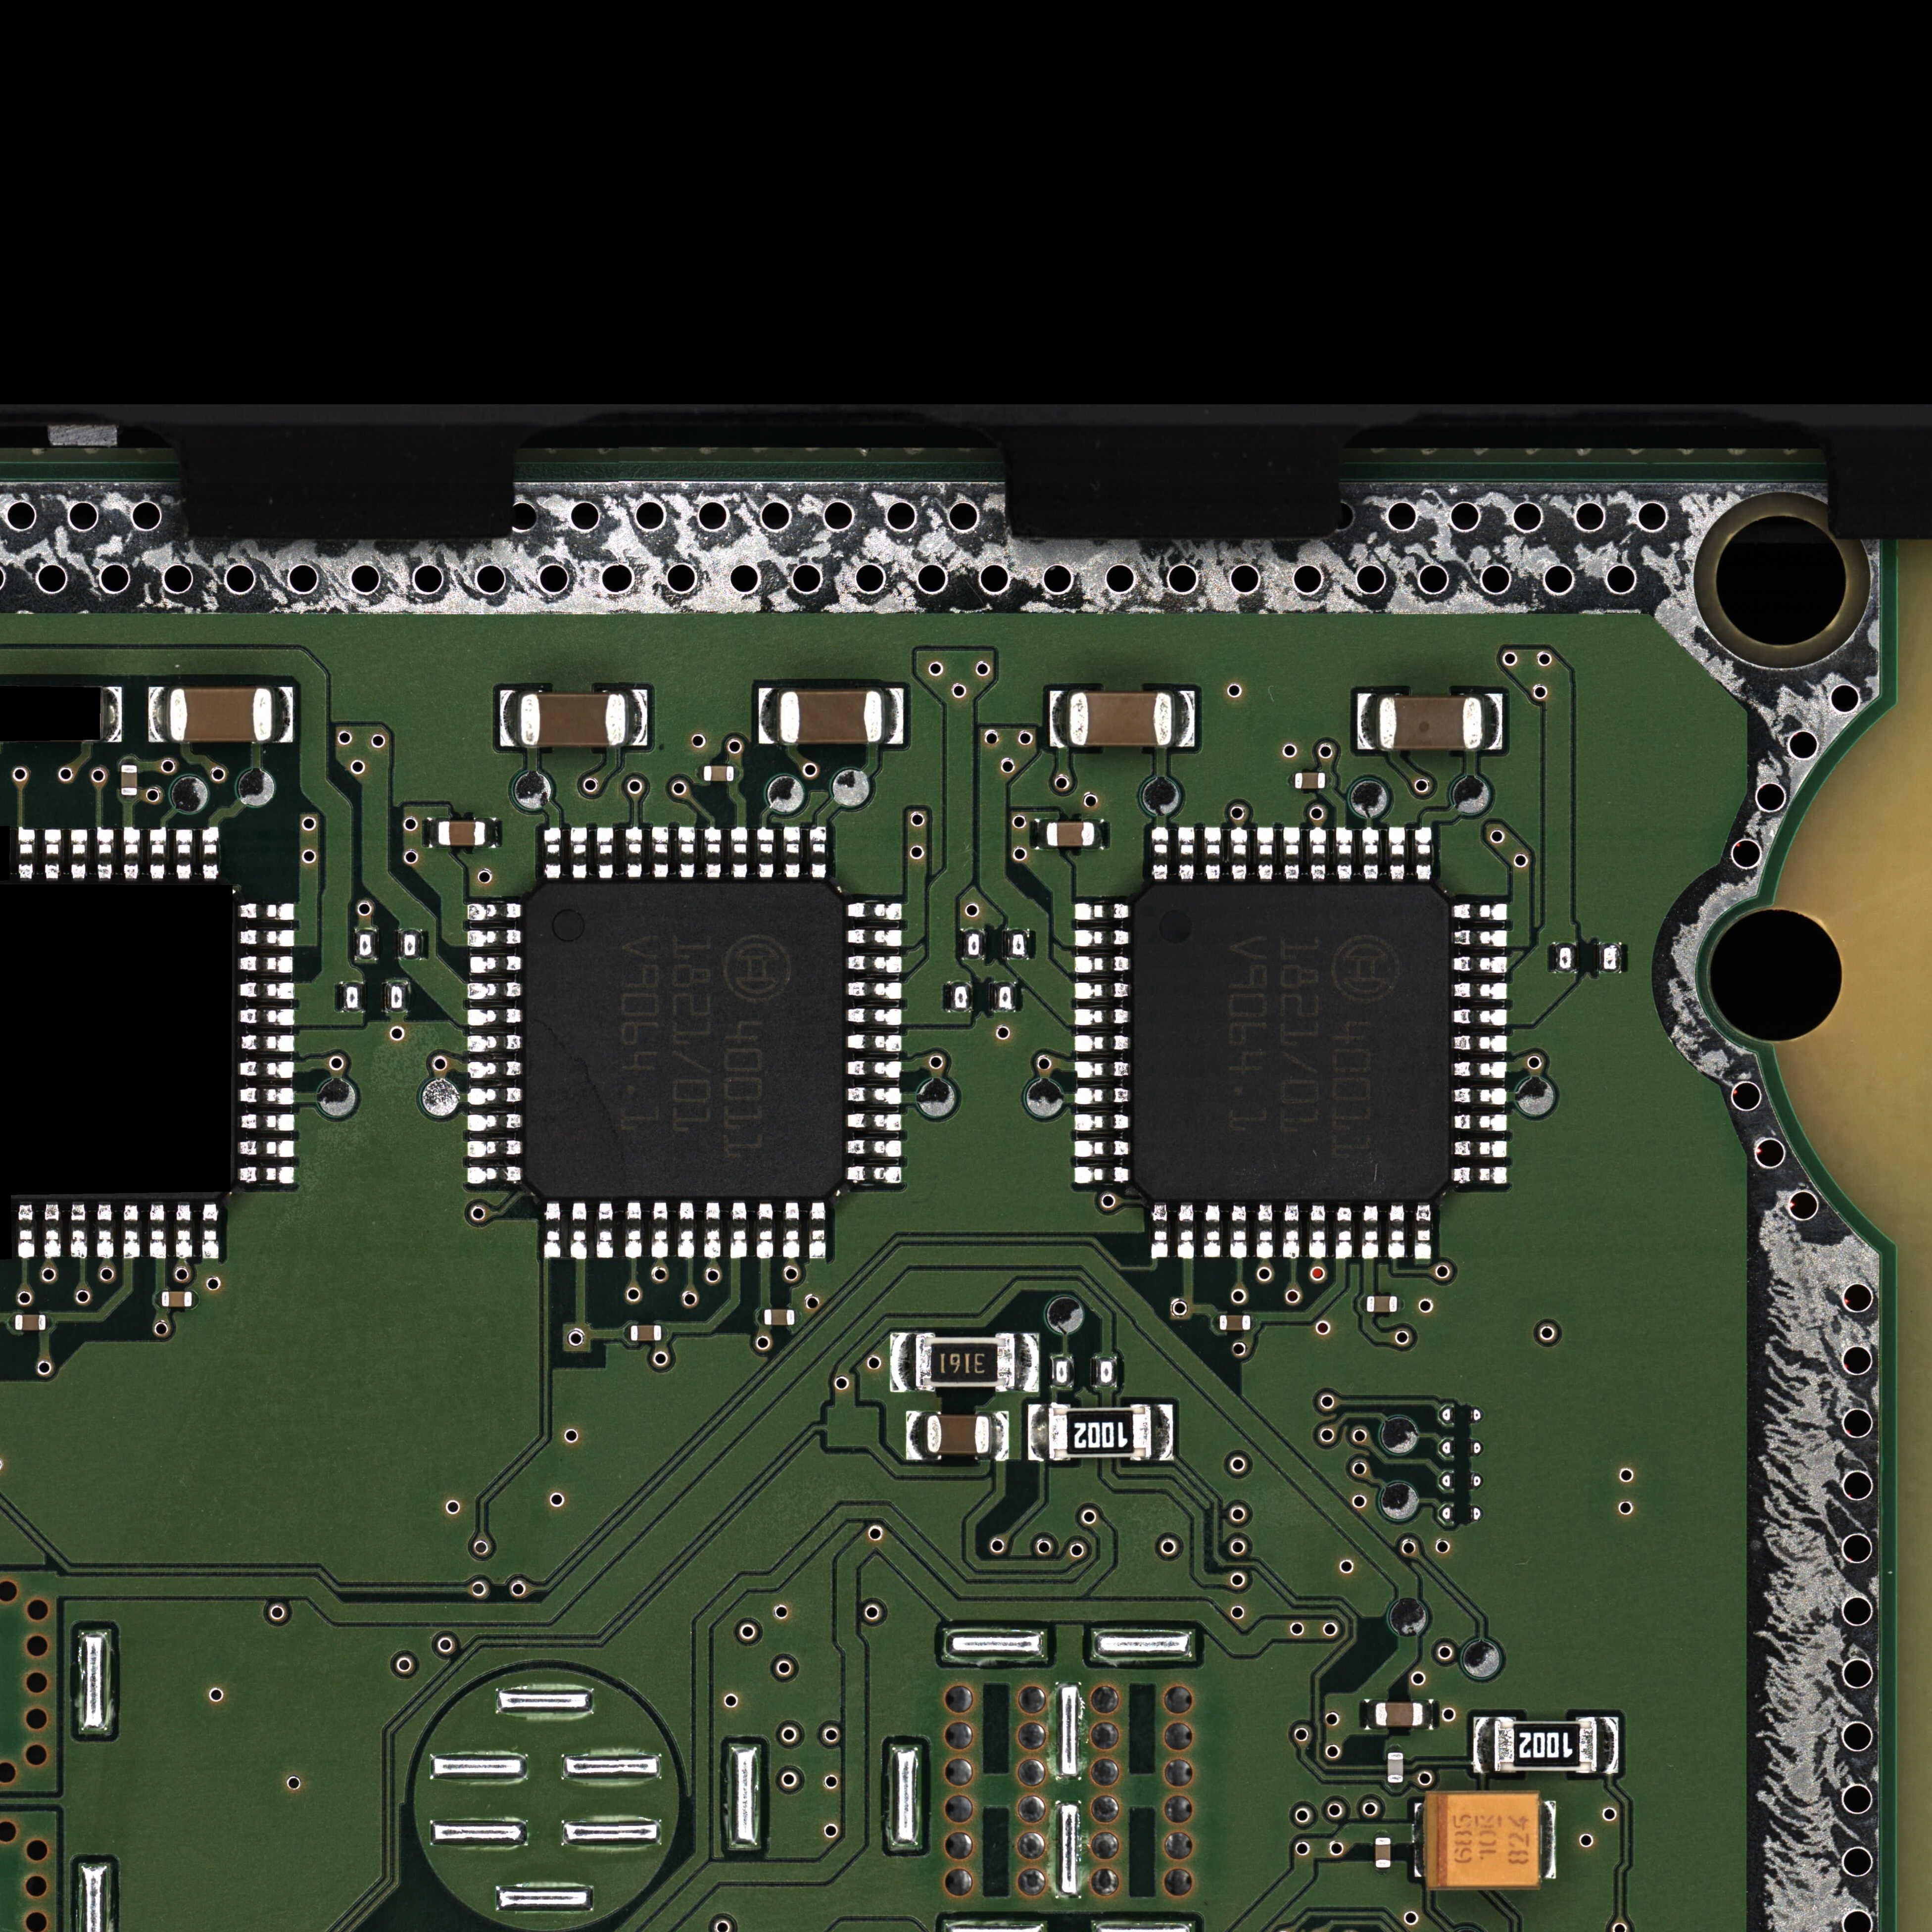Package: (524, 882, 844, 1200), (1131, 883, 1451, 1201), (1426, 1793, 1539, 1887), (521, 693, 626, 746), (1069, 692, 1172, 746), (170, 688, 272, 742), (1379, 697, 1483, 750), (780, 690, 882, 743), (1050, 1406, 1151, 1459), (1495, 1719, 1596, 1772), (916, 1336, 1012, 1388), (926, 1415, 990, 1454), (1047, 822, 1094, 847), (438, 821, 485, 846), (1375, 1702, 1423, 1727), (15, 1314, 46, 1331), (764, 1309, 794, 1325), (1295, 773, 1325, 789), (1367, 1296, 1397, 1312), (630, 1325, 661, 1341), (121, 765, 137, 795), (704, 766, 734, 781), (162, 1291, 192, 1307), (1388, 1752, 1403, 1783), (1220, 1315, 1251, 1330), (1375, 1837, 1391, 1868)
Solder: (891, 1332, 915, 1393), (1540, 1801, 1557, 1879), (1016, 1333, 1039, 1393), (42, 1201, 63, 1259), (94, 1202, 115, 1260), (68, 1202, 89, 1260), (199, 1203, 220, 1260), (120, 1202, 142, 1260), (240, 901, 297, 922), (239, 928, 297, 949), (239, 954, 296, 974), (239, 980, 296, 1001), (238, 1059, 296, 1080), (239, 1032, 296, 1053), (239, 1006, 296, 1027), (239, 1164, 296, 1185), (239, 1137, 297, 1158), (239, 1111, 297, 1132), (239, 1085, 297, 1106), (16, 1202, 37, 1259), (173, 1203, 193, 1260), (147, 1202, 168, 1260), (1174, 690, 1195, 747), (1598, 1716, 1618, 1774), (1357, 693, 1378, 750), (103, 686, 123, 743), (148, 686, 169, 743), (759, 687, 778, 744), (628, 689, 647, 746), (1474, 1716, 1494, 1773), (883, 688, 903, 744), (274, 686, 293, 743), (500, 690, 519, 747), (1050, 690, 1068, 748), (468, 1112, 523, 1131), (69, 825, 88, 880), (1153, 1404, 1173, 1456), (467, 1165, 523, 1184), (468, 1086, 523, 1105), (16, 825, 36, 880), (43, 826, 62, 880), (122, 825, 142, 879), (146, 825, 166, 880), (200, 825, 220, 880), (846, 1164, 902, 1183), (847, 1032, 902, 1051), (1452, 1166, 1507, 1185), (468, 1033, 523, 1052), (1484, 693, 1502, 750), (847, 953, 901, 972), (847, 1111, 902, 1130), (1452, 1034, 1507, 1053), (625, 1202, 643, 1259), (1453, 955, 1507, 974), (1453, 1087, 1506, 1106), (847, 1085, 902, 1104), (1452, 981, 1507, 1000), (97, 825, 115, 880), (175, 826, 193, 880), (847, 1138, 901, 1157), (1075, 955, 1129, 973), (1075, 1087, 1129, 1106), (1453, 903, 1507, 921), (1453, 1139, 1507, 1158), (469, 954, 523, 973), (469, 1060, 523, 1078), (1075, 1061, 1130, 1079), (1074, 1113, 1129, 1131), (847, 1007, 902, 1025), (847, 1059, 902, 1077), (1075, 1139, 1129, 1158), (1074, 1034, 1129, 1052), (1075, 981, 1129, 1000), (1452, 1008, 1507, 1026), (1452, 1061, 1507, 1079), (468, 902, 523, 920), (468, 1139, 523, 1157), (1453, 928, 1506, 947), (1453, 1113, 1506, 1132), (847, 901, 901, 919), (1075, 903, 1129, 921), (1076, 929, 1130, 947), (469, 928, 523, 947), (469, 981, 523, 999), (1074, 1166, 1130, 1184), (783, 1202, 800, 1259), (1028, 1404, 1048, 1455), (848, 927, 901, 946), (1075, 1008, 1129, 1026), (651, 1202, 669, 1258), (1414, 1204, 1432, 1260), (678, 1202, 695, 1259), (1388, 1204, 1405, 1260), (1177, 1204, 1195, 1259), (597, 1202, 614, 1259), (469, 1008, 523, 1025), (757, 1203, 773, 1259), (730, 1202, 747, 1259), (1152, 1203, 1168, 1260), (848, 980, 901, 998), (1283, 1204, 1300, 1259), (1256, 1204, 1274, 1259), (704, 1203, 721, 1259), (1204, 1204, 1221, 1258), (1362, 1205, 1379, 1259), (809, 1202, 825, 1259), (544, 1202, 561, 1259), (1178, 827, 1195, 881), (1204, 827, 1221, 881), (1152, 826, 1168, 881), (1309, 1204, 1326, 1259), (571, 1203, 587, 1259), (1335, 1206, 1352, 1259), (1230, 1205, 1247, 1259), (1415, 827, 1432, 881), (1389, 827, 1405, 881), (544, 827, 561, 880), (626, 827, 643, 879), (1257, 827, 1274, 881), (1231, 827, 1248, 881), (1283, 827, 1300, 881), (1336, 827, 1352, 881), (597, 827, 614, 880), (1362, 827, 1379, 880), (678, 826, 695, 879), (705, 827, 722, 879), (652, 826, 669, 879), (784, 827, 801, 879), (1310, 827, 1326, 881), (757, 827, 774, 879), (571, 827, 587, 879), (731, 827, 748, 879), (906, 1411, 925, 1456), (810, 826, 826, 879), (1414, 1802, 1426, 1877), (991, 1411, 1009, 1456), (1034, 819, 1046, 849), (486, 818, 498, 848), (1364, 1699, 1375, 1730), (427, 818, 437, 848), (1423, 1699, 1434, 1730), (1094, 820, 1104, 850), (121, 757, 138, 765), (1359, 1296, 1367, 1312), (8, 1314, 15, 1331), (697, 766, 704, 781), (1388, 1745, 1403, 1752), (1387, 1783, 1403, 1789), (46, 1315, 53, 1330), (1325, 773, 1332, 788), (1213, 1315, 1220, 1331), (192, 1292, 198, 1307), (155, 1292, 162, 1307), (120, 795, 138, 801), (625, 1325, 631, 1342), (758, 1309, 764, 1325), (1288, 773, 1295, 788), (1398, 1297, 1404, 1311), (1375, 1868, 1391, 1874), (662, 1326, 668, 1341), (734, 766, 740, 780), (1375, 1832, 1390, 1837), (1251, 1315, 1256, 1330), (794, 1310, 800, 1325)
